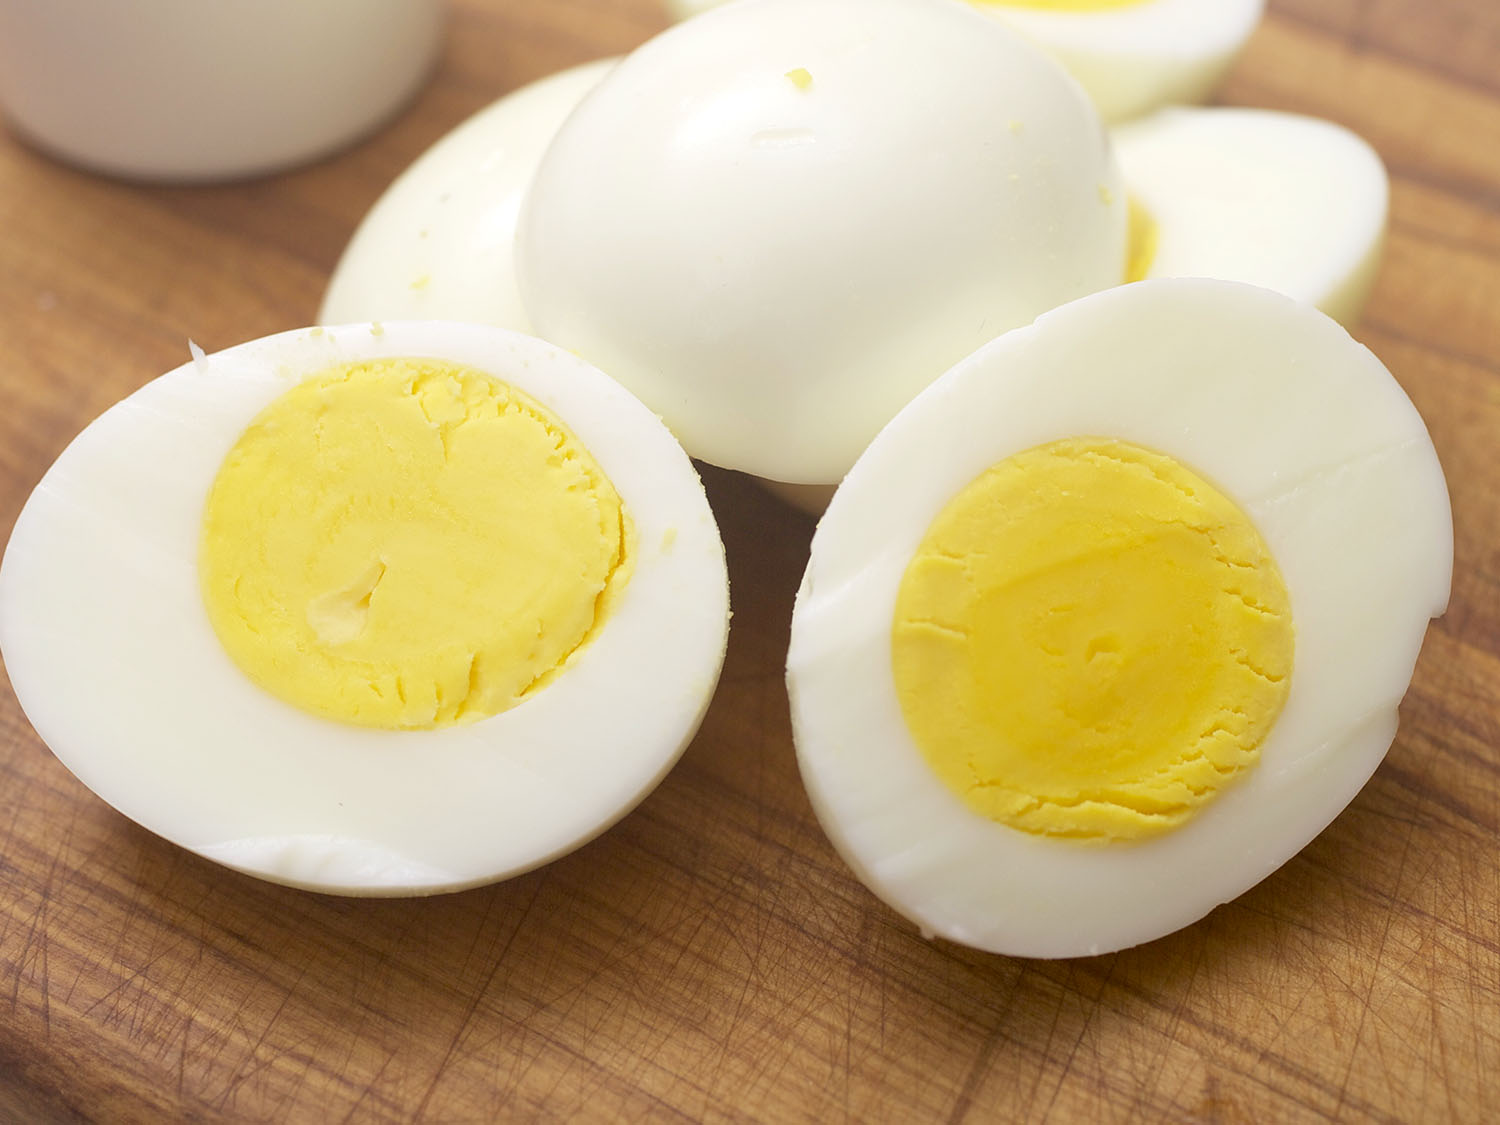egg: (785, 225, 1448, 1001), (1, 307, 744, 905), (516, 1, 1136, 481), (298, 59, 674, 379), (1096, 65, 1409, 305)
